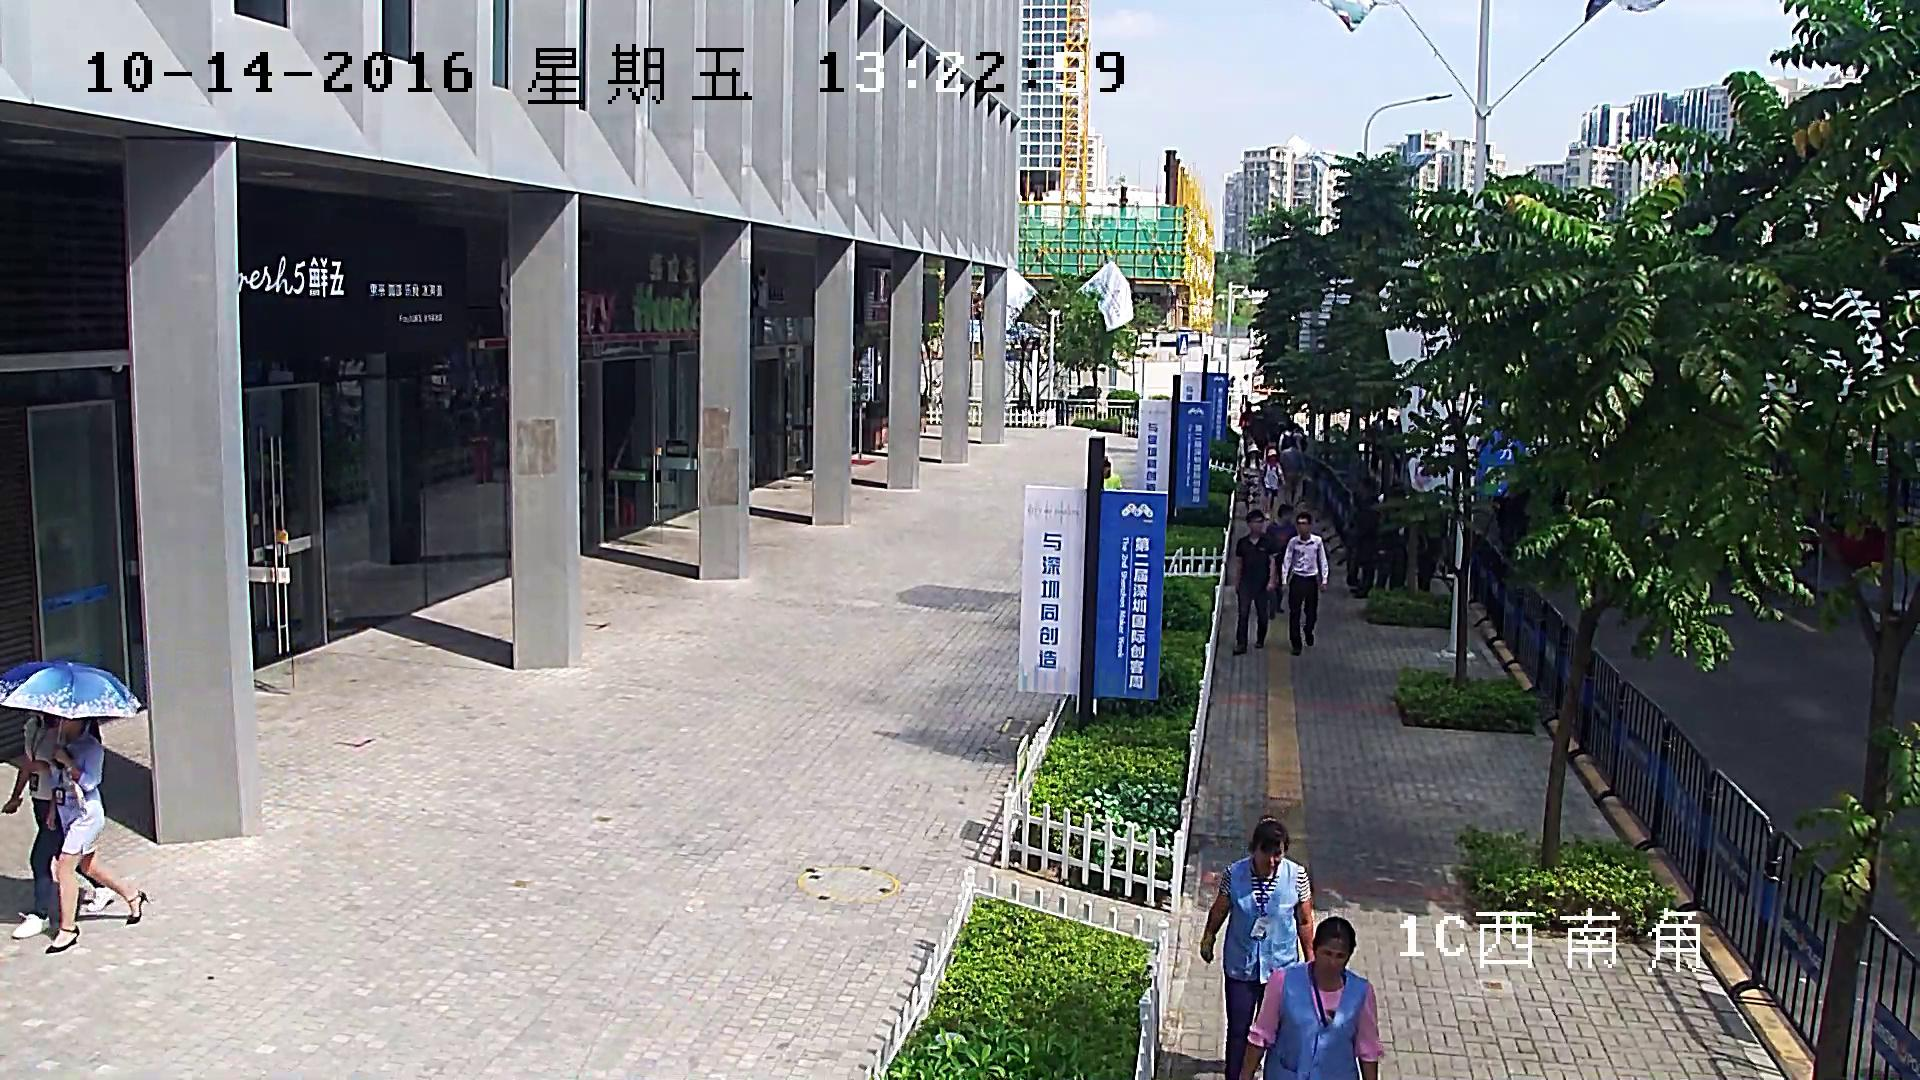person: (0, 660, 148, 953), (0, 660, 142, 938), (1200, 814, 1315, 1080), (1, 709, 116, 938), (45, 716, 149, 954), (1238, 915, 1379, 1080), (1281, 511, 1328, 656), (1232, 509, 1275, 655), (1349, 478, 1381, 599), (1266, 503, 1297, 619), (1240, 443, 1264, 514), (1259, 448, 1285, 509), (1280, 436, 1302, 505)
